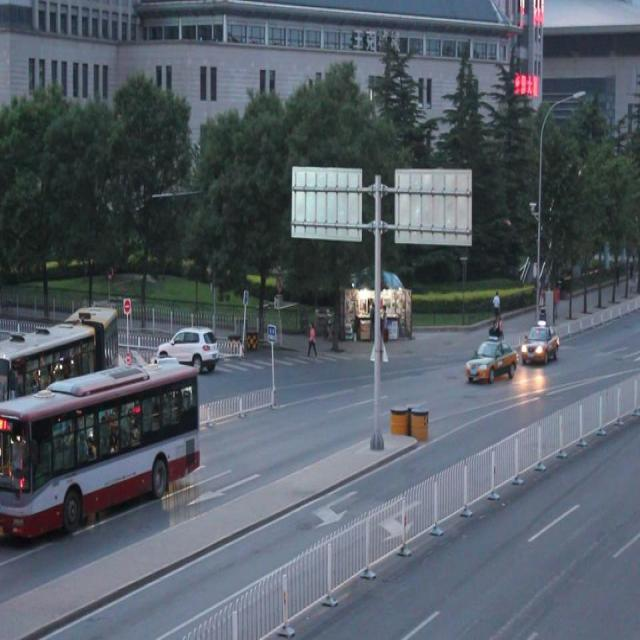car: (157, 326, 218, 370), (465, 336, 516, 386), (133, 345, 181, 393), (519, 320, 558, 364)
van: (0, 360, 196, 540), (1, 307, 117, 414)
